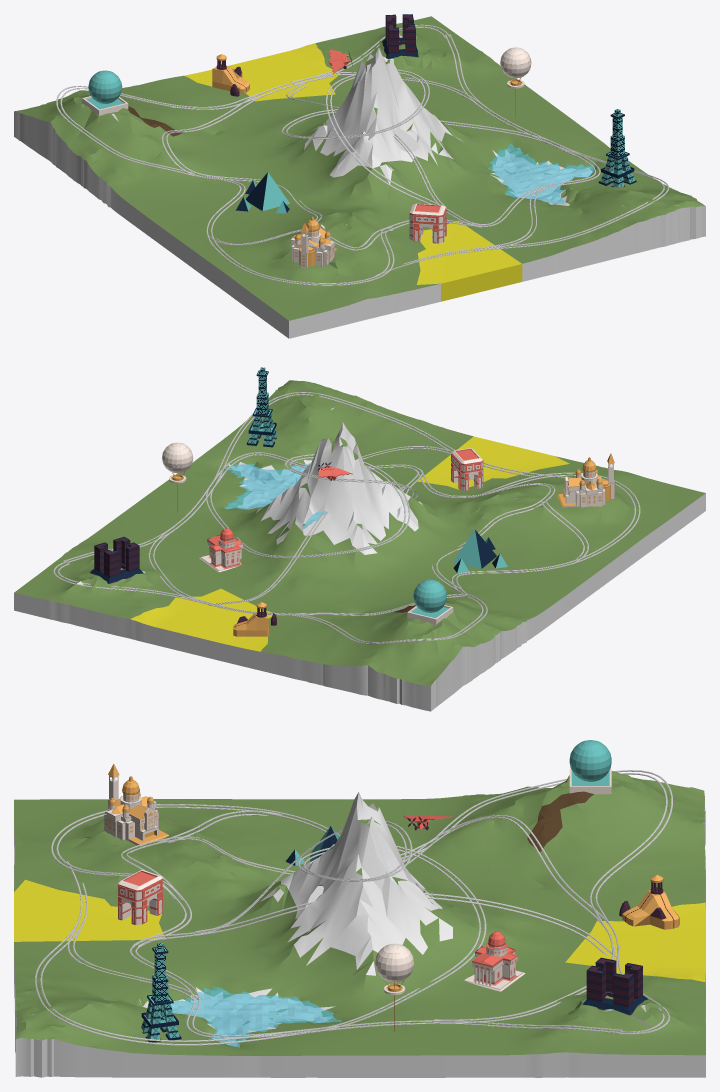
The model's file is Map_aramis_V0.fbx.
3 views of the same model, one above another, from view 1: azimuth 30°, elevation 25°; view 2: azimuth 150°, elevation 25°; view 3: azimuth 270°, elevation 25° (orthographic). The views are drawn at different scales.
Parts seen in each view (by area): view 1: Landscape, Rail_1, Water, Rail_3, SacreCoeur, TourEiffel, geodeSocle, Rail_8, Rail_5, Rail_4, ArcdeTriomphe, bibliFM (+5 smaller); view 2: Landscape, Rail_1, Water, SacreCoeur, Rail_3, bibliFM, geodeSocle, Rail_5, TourEiffel, Rail_8, Louvre, Pantheon (+5 smaller); view 3: Landscape, Rail_1, Water, Rail_3, SacreCoeur, bibliFM, geodeSocle, TourEiffel, Pantheon, ArcdeTriomphe, Rail_8, ButteChaumont (+7 smaller).
Part boxes in pixels (left/top/right/bottom): Landscape: left=14, top=16, right=705, bottom=338; Rail_1: left=161, top=24, right=600, bottom=250; Water: left=488, top=143, right=594, bottom=204; Rail_3: left=281, top=69, right=578, bottom=227; SacreCoeur: left=290, top=216, right=337, bottom=268; TourEiffel: left=598, top=109, right=636, bottom=187; geodeSocle: left=82, top=70, right=128, bottom=115; Rail_8: left=376, top=141, right=669, bottom=275; Rail_5: left=200, top=176, right=394, bottom=285; Rail_4: left=56, top=86, right=267, bottom=176; ArcdeTriomphe: left=409, top=203, right=446, bottom=243; bibliFM: left=382, top=14, right=418, bottom=58; Landscape: left=14, top=380, right=705, bottom=711; Rail_1: left=53, top=452, right=555, bottom=615; Water: left=224, top=462, right=326, bottom=528; SacreCoeur: left=557, top=453, right=614, bottom=507; Rail_3: left=206, top=454, right=423, bottom=557; bibliFM: left=90, top=536, right=143, bottom=583; geodeSocle: left=407, top=579, right=453, bottom=624; Rail_5: left=451, top=472, right=640, bottom=594; TourEiffel: left=246, top=367, right=276, bottom=447; Rail_8: left=209, top=392, right=572, bottom=488; Louvre: left=453, top=530, right=507, bottom=572; Pantheon: left=199, top=528, right=243, bottom=572; Landscape: left=14, top=771, right=705, bottom=1077; Rail_1: left=121, top=815, right=669, bottom=1038; Water: left=171, top=986, right=341, bottom=1047; Rail_3: left=132, top=821, right=486, bottom=1036; SacreCoeur: left=104, top=764, right=168, bottom=846; bibliFM: left=582, top=957, right=648, bottom=1015; geodeSocle: left=569, top=740, right=611, bottom=794; TourEiffel: left=141, top=942, right=181, bottom=1042; Pantheon: left=464, top=931, right=525, bottom=991; ArcdeTriomphe: left=118, top=870, right=162, bottom=924; Rail_8: left=35, top=861, right=319, bottom=1045; ButteChaumont: left=619, top=874, right=679, bottom=929.
Size of the model in its own units: 2804 by 864 by 3201.
